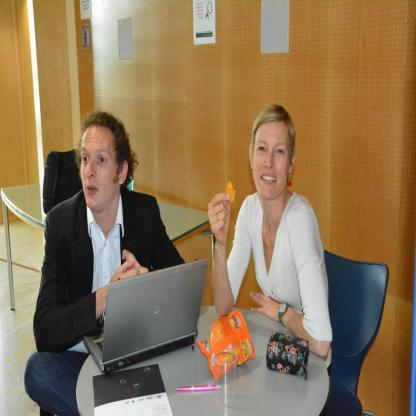board: (84, 258, 207, 372)
